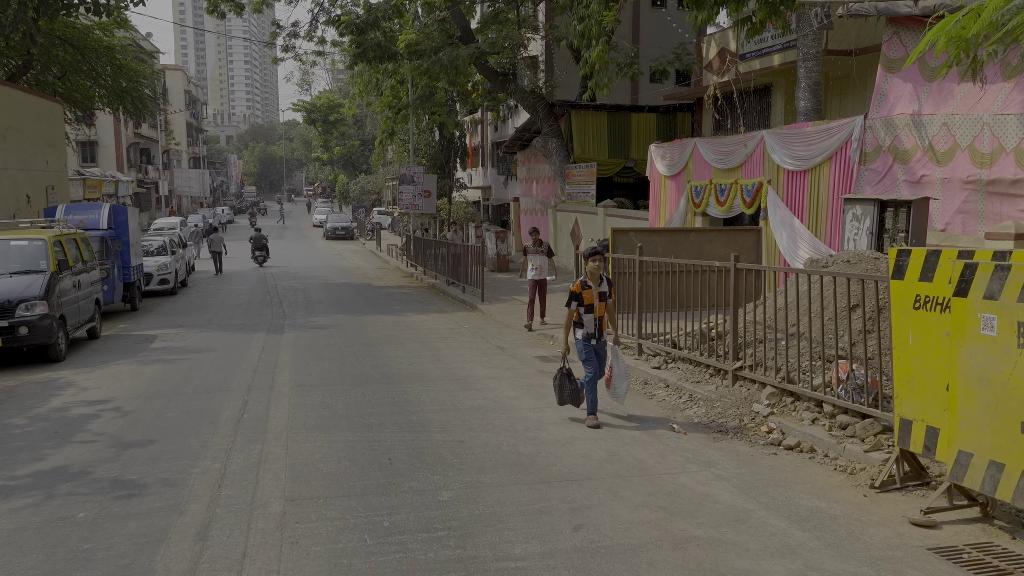garbage: (607, 339, 632, 412), (552, 353, 582, 413)
